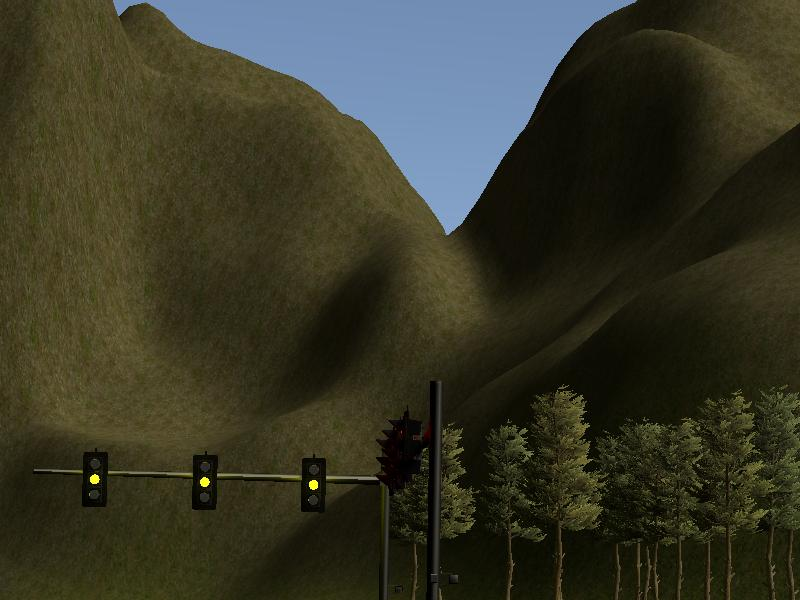Yellow: (192, 453, 217, 510), (301, 457, 325, 513), (82, 454, 107, 507)
